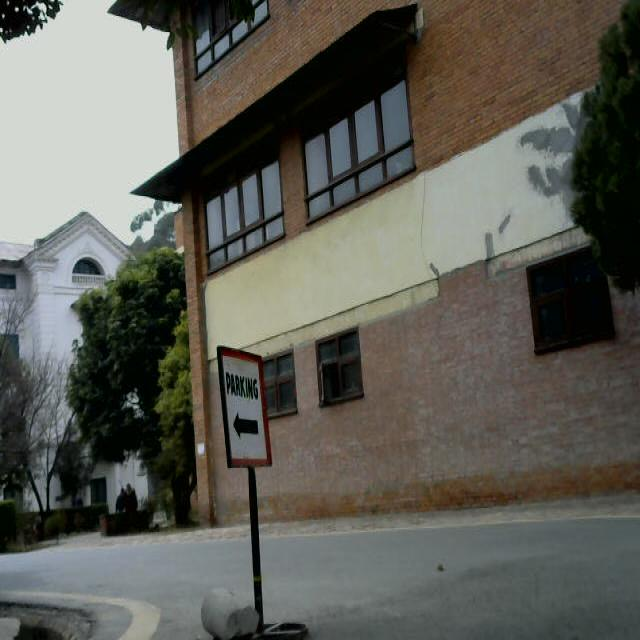Buildings: (115, 0, 589, 501)
Parking: (208, 337, 308, 640)
Road: (0, 517, 640, 640)
trees: (62, 254, 183, 487), (575, 0, 640, 311), (0, 294, 49, 534)
